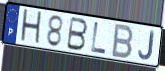8: (46, 14, 64, 48)
B: (110, 23, 135, 60), (65, 16, 89, 53)
H: (19, 8, 43, 47)
J: (137, 30, 155, 62)
L: (89, 20, 108, 55)
